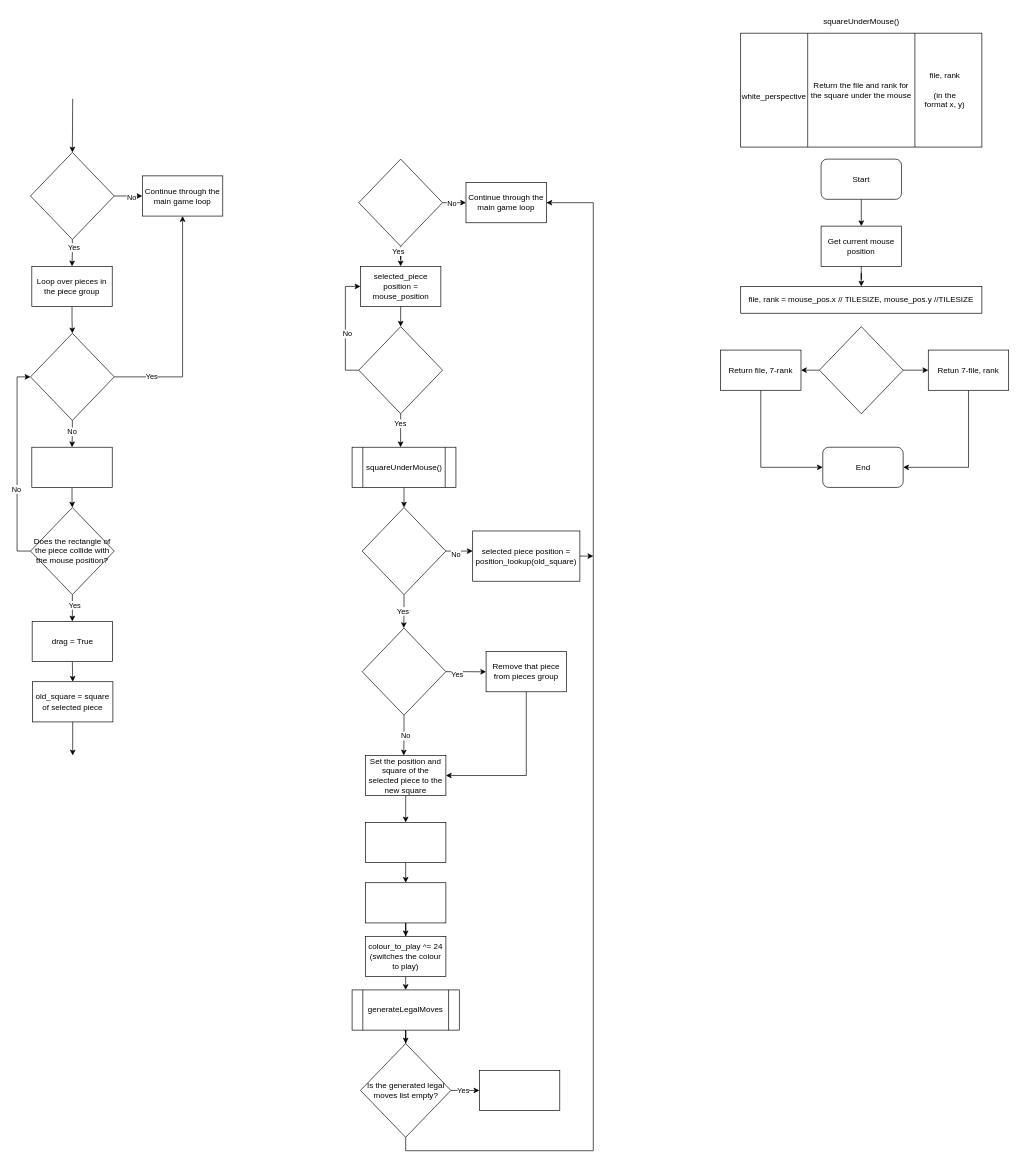
The diagram is 1020 pixels wide and 1168 high, and some of its shapes have lost their labels. The shapes that lost their labels are listed below. From the top down, each one's centre as x and y in pixels, then its label:
pixel 72 196: Is there a mouse button down event?
pixel 400 202: Is drag set to True?
pixel 72 376: Have all the pieces been looped over?
pixel 400 370: Is there a mouse button up event?
pixel 861 370: Is white_perspective true?
pixel 71 467: Loop over the next piece
pixel 403 551: Is the move to play in the valid moves list?
pixel 403 671: Do any current pieces occupy that square?
pixel 405 842: Make that move on the board
pixel 405 902: Append that move to the moves log
pixel 519 1090: Exit game (checkmate)
